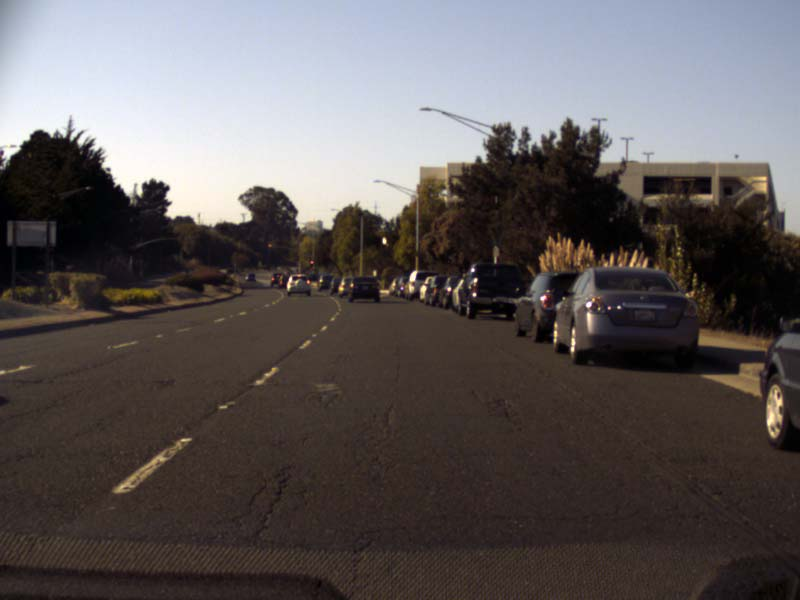Red: (310, 259, 313, 266)
